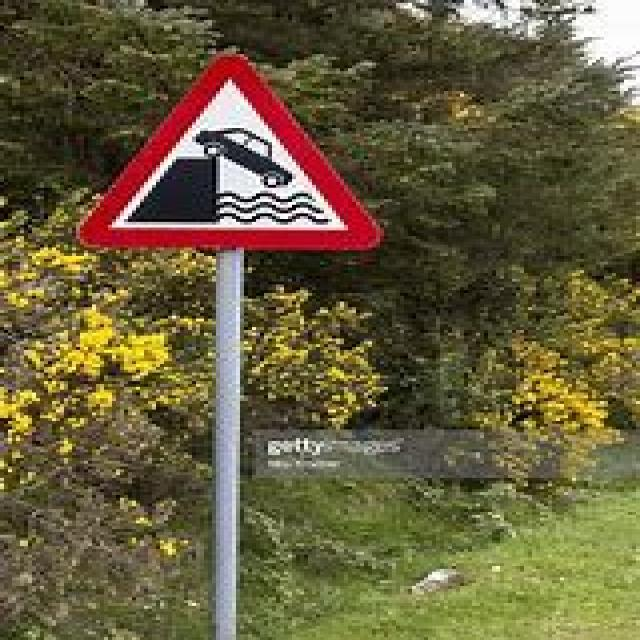QUAY_SIDE_OR_RIVER_BANK: (68, 51, 380, 248)
